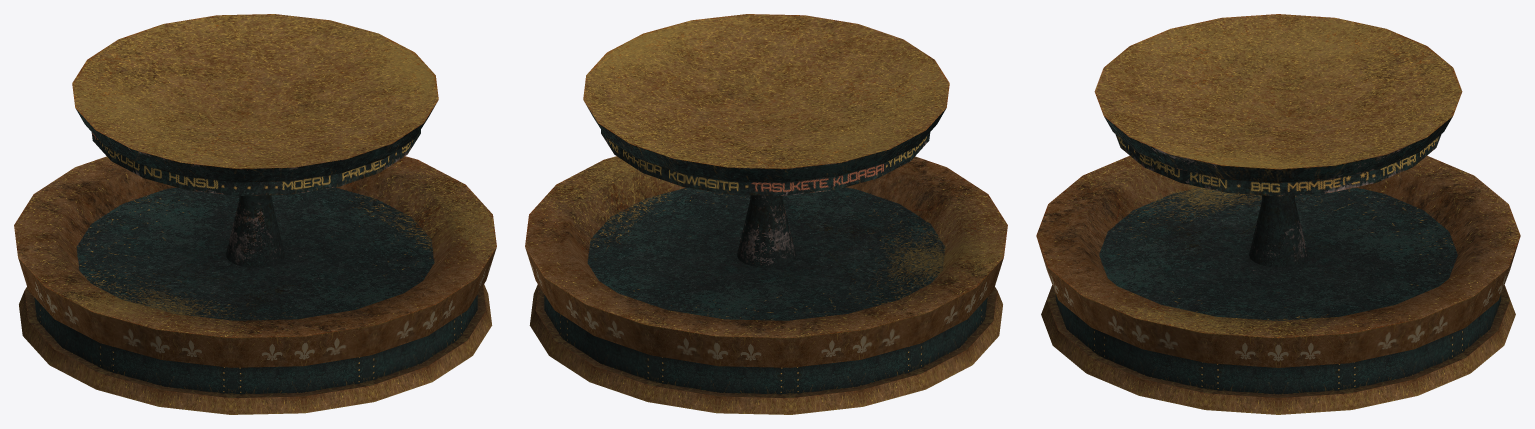
File: hunsui.FBX
The picture shows the model from 3 angles, left to right: view 1: azimuth 30°, elevation 25°; view 2: azimuth 150°, elevation 25°; view 3: azimuth 270°, elevation 25°; orthographic projection.
Visible parts, largest first — view 1: obj1; view 2: obj1; view 3: obj1.
Part boxes in pixels (bbox=[...]): obj1: bbox=[14, 14, 496, 414]; obj1: bbox=[525, 14, 1007, 414]; obj1: bbox=[1036, 14, 1520, 414].
Size of the model in its own units: 612 by 311 by 612.
